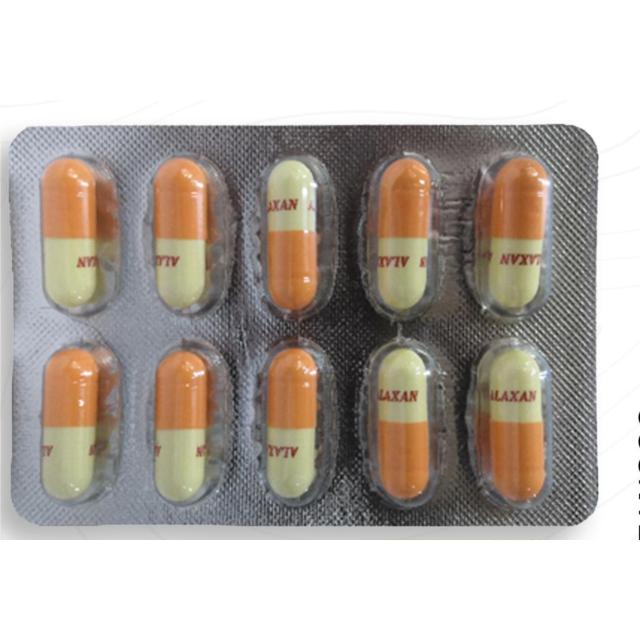blister: (4, 124, 599, 531)
